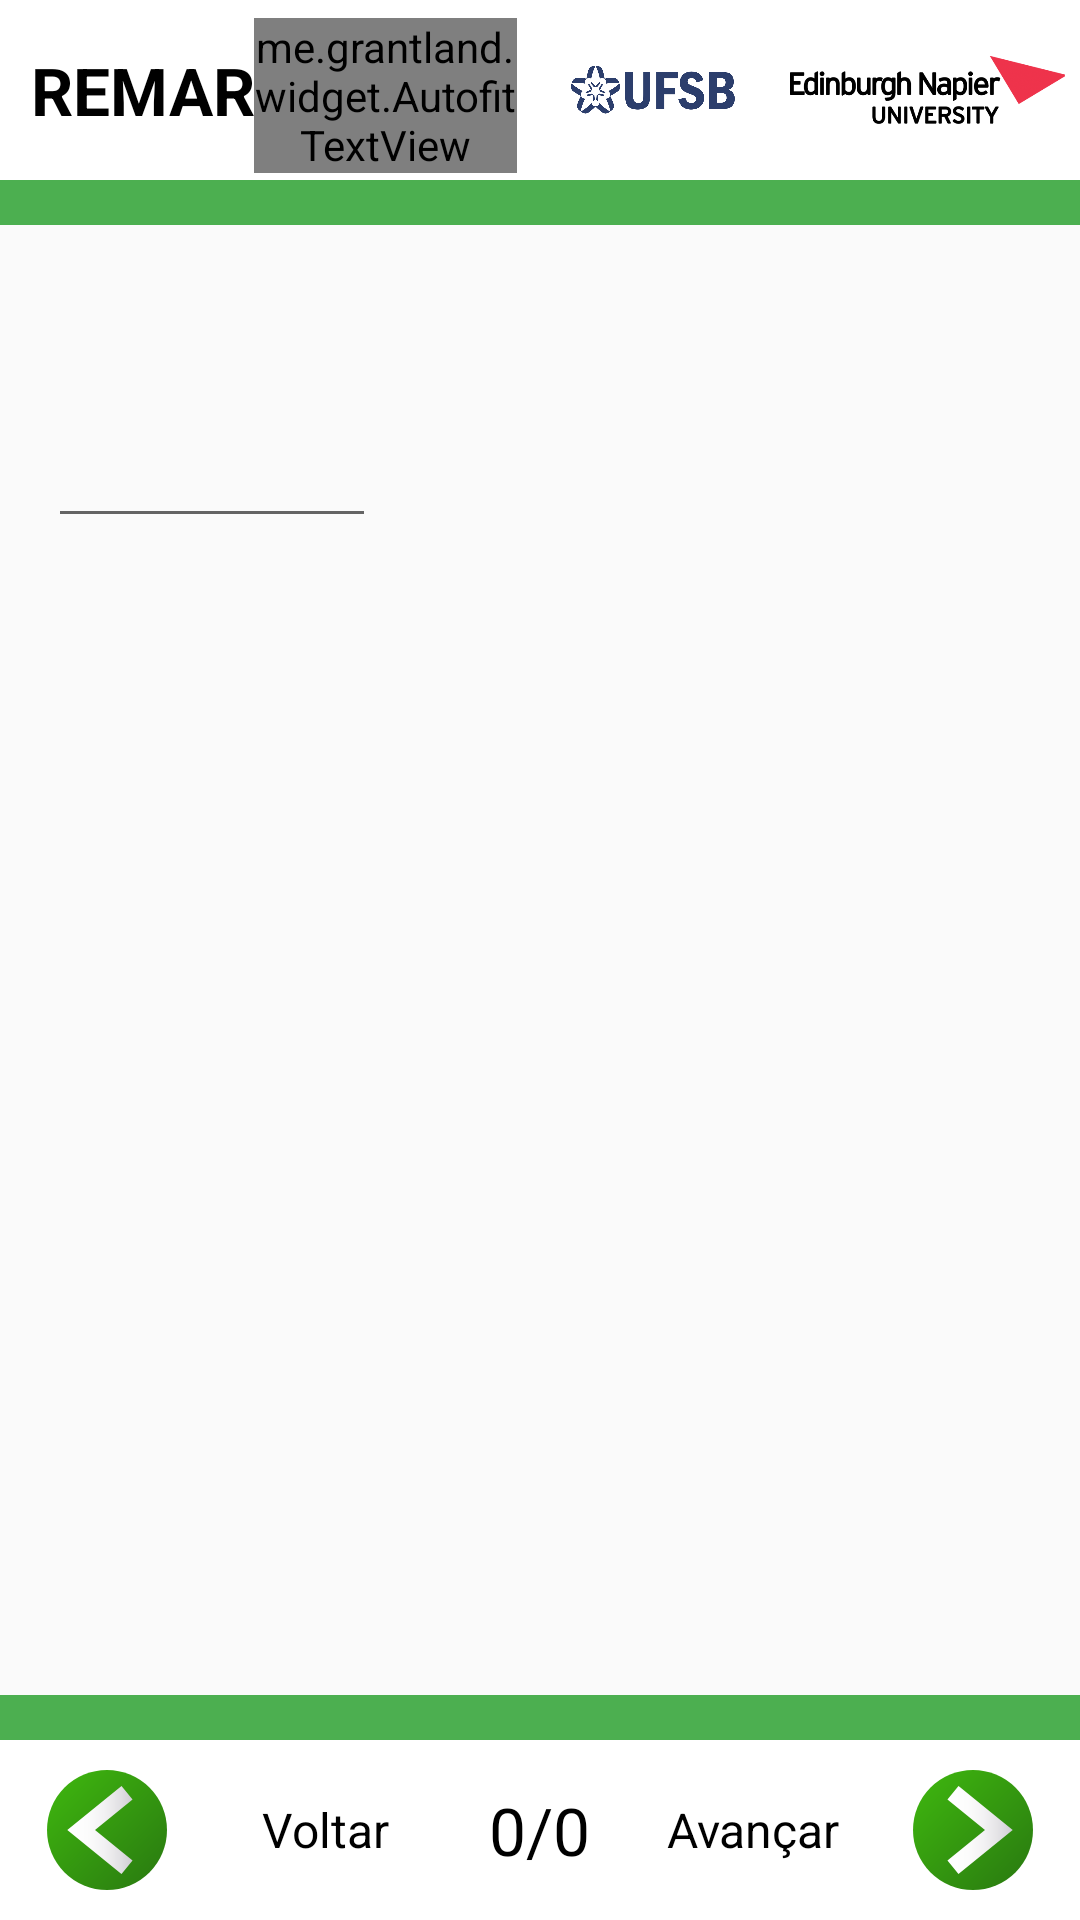

Icons on this 1080×1920 Android screen, each with its box as bbox=[x1, y1, x2, y2]:
back state: bbox=[47, 1770, 167, 1890]
next state: bbox=[913, 1770, 1033, 1890]
